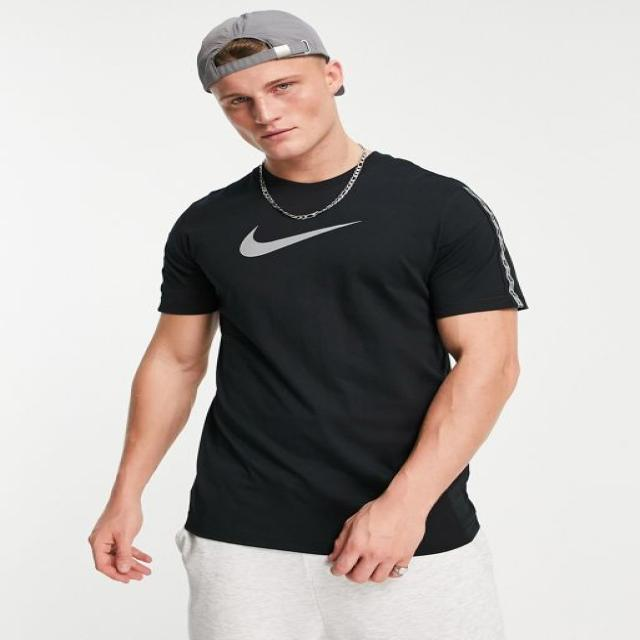tshirt: (154, 149, 526, 558)
